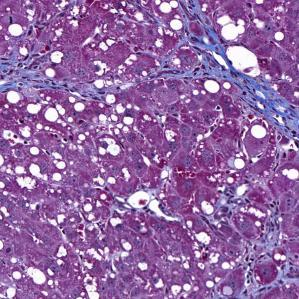fibrosis: (234, 75, 296, 138), (176, 20, 227, 81)
